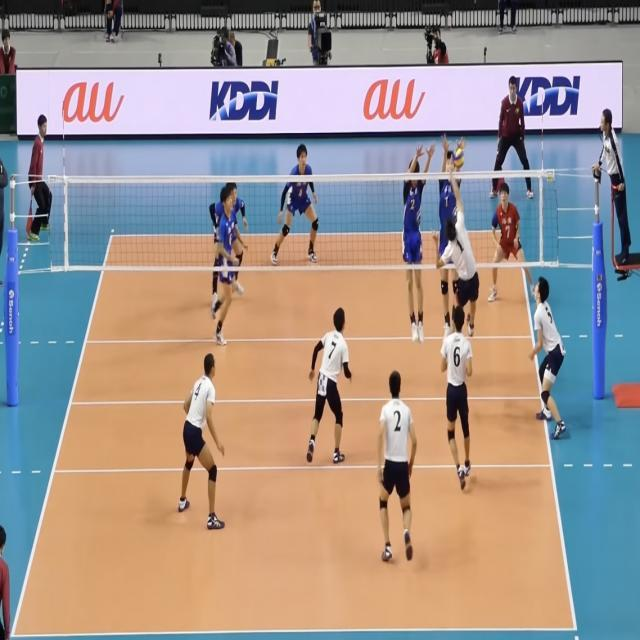spike: (438, 148, 482, 345)
